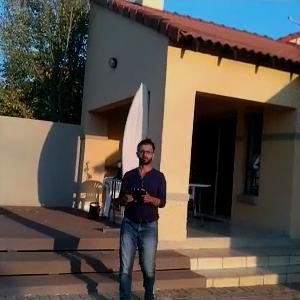follow: (111, 134, 171, 298)
